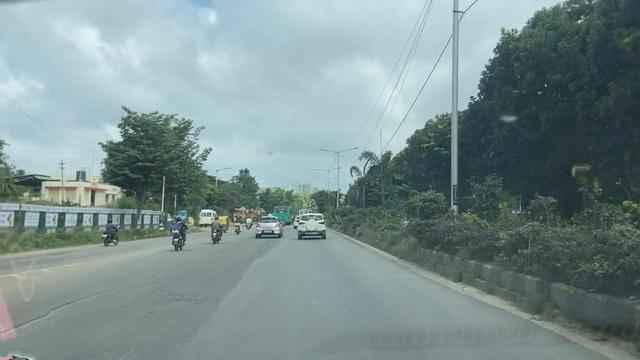LMV: (291, 209, 328, 241), (251, 210, 285, 241), (169, 213, 192, 251), (102, 218, 124, 250), (209, 212, 226, 247)
RoadDamages: (8, 295, 86, 329)
